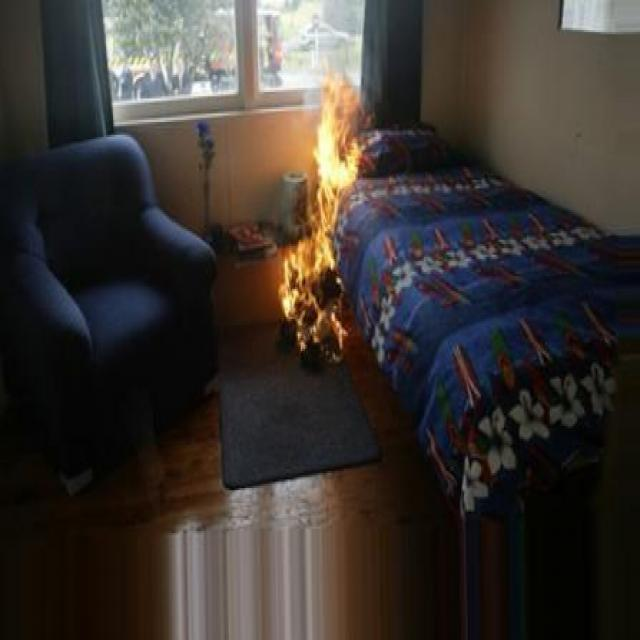fire: (277, 85, 360, 358)
